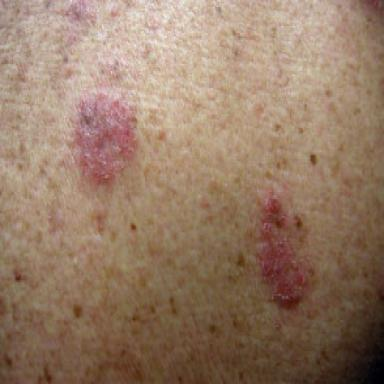eczema: (257, 190, 313, 307), (73, 90, 137, 184)
